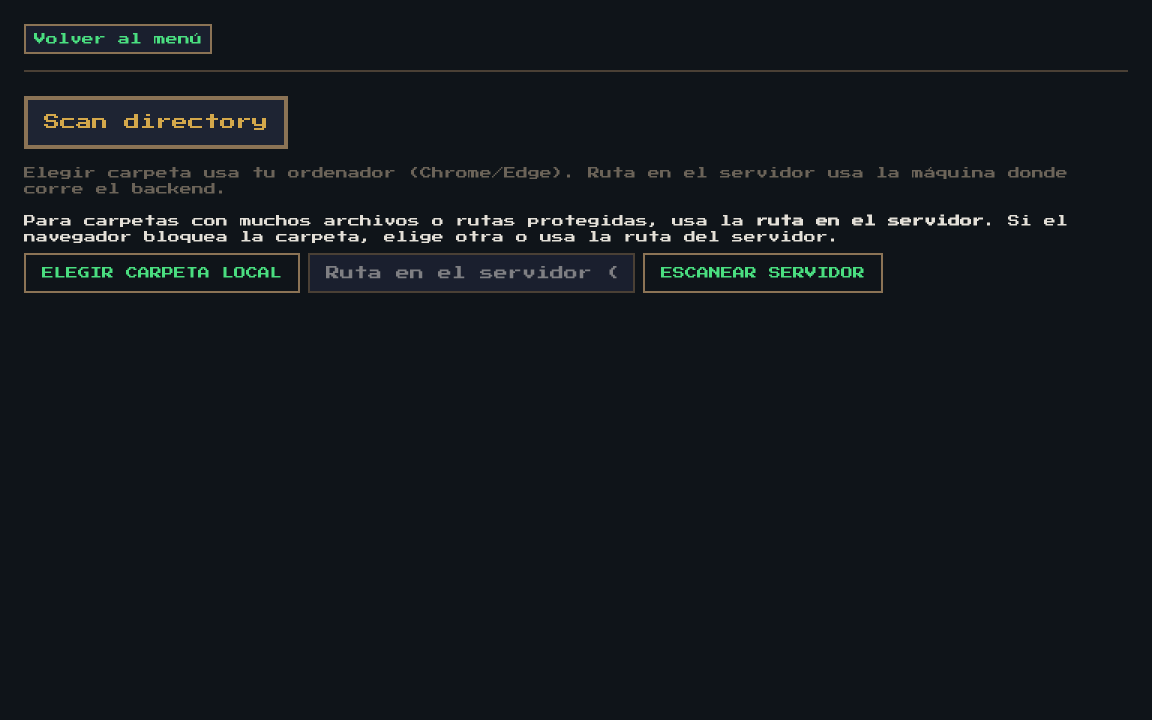
Scan › al clicar en extension carga lista de archivos del servidor
Type "/tmp" into the field with placeholder "Ruta en el servidor (ej: /ruta/local)". click: (472, 273)
box: 308,253 -> 635,293
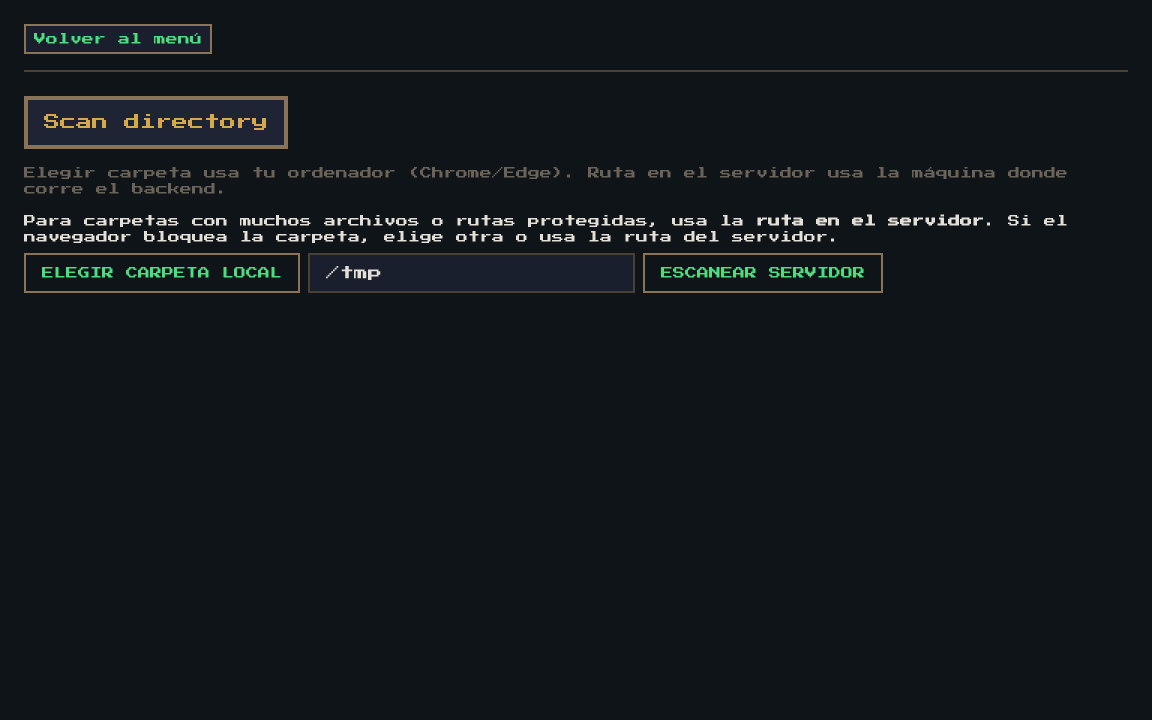
Click the button "ESCANEAR SERVIDOR". click: (763, 273)
box: 643,253 -> 883,293
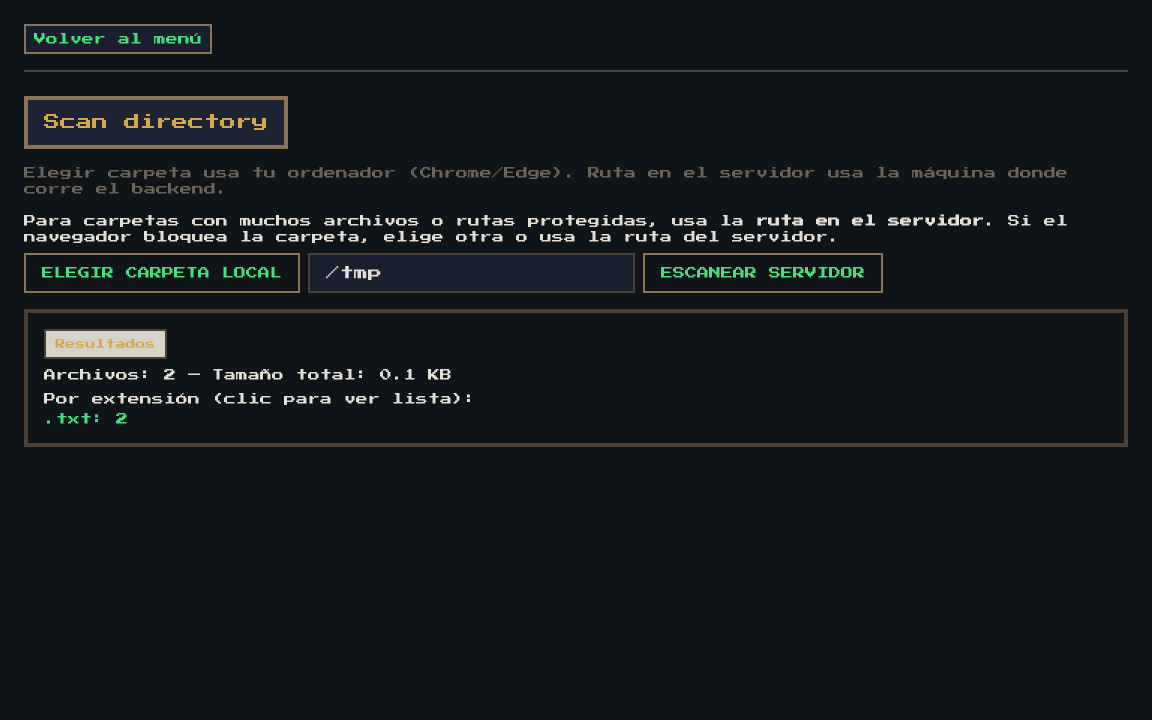
expect the button ".txt: 2" is shown: met
Click the button ".txt: 2". click: (86, 419)
box: 44,411 -> 128,427
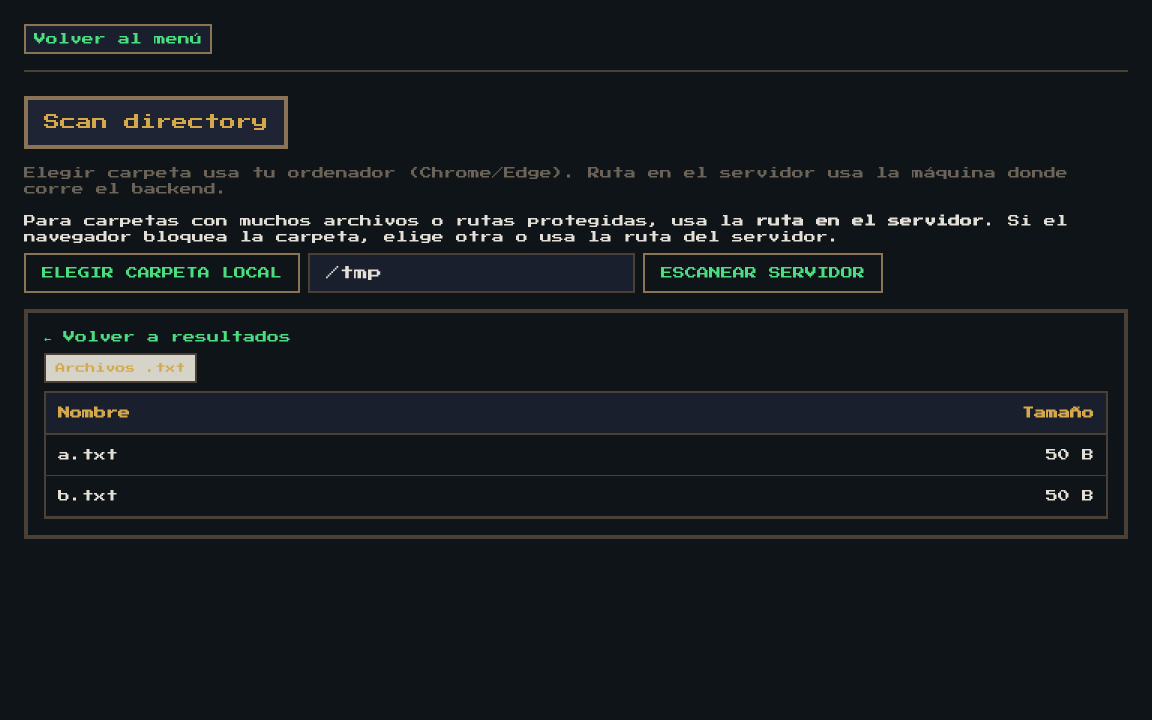
expect the heading "Archivos .txt" is shown: met, box 44,353 -> 197,383
expect the text "a.txt" is shown: met, box 46,434 -> 576,476
expect the text "b.txt" is shown: met, box 46,476 -> 576,517
